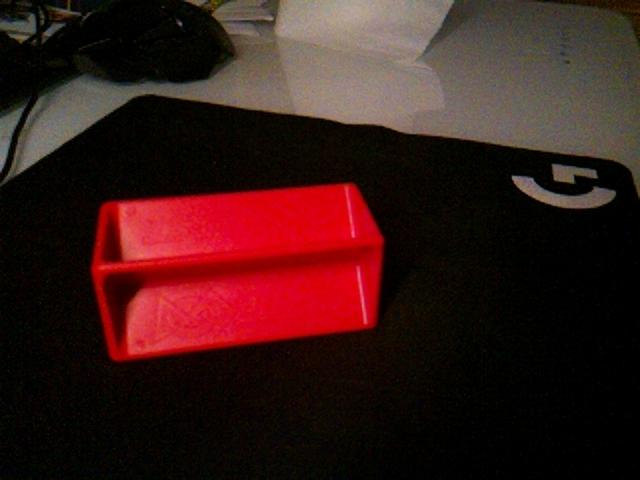red: (90, 181, 387, 363)
